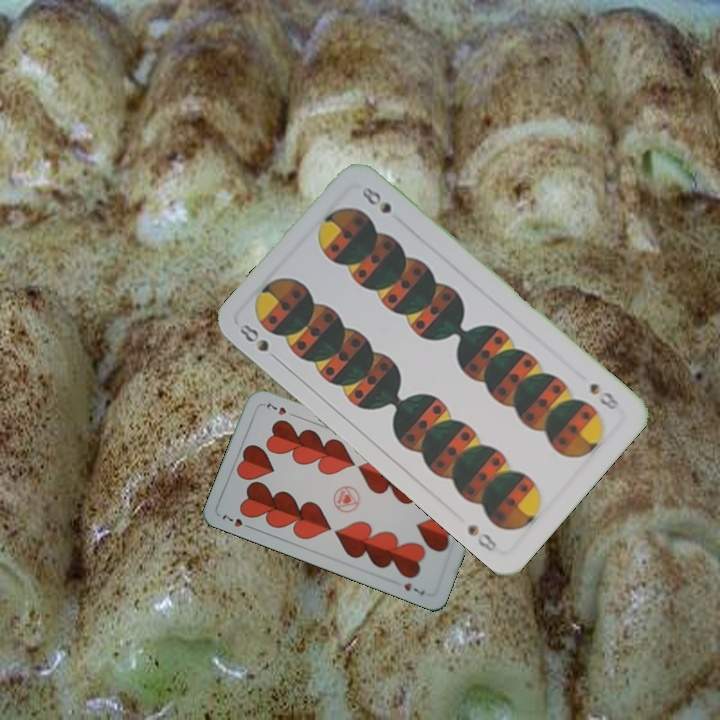H7: (218, 511, 256, 532)
S8: (235, 319, 272, 355), (585, 379, 622, 412)
